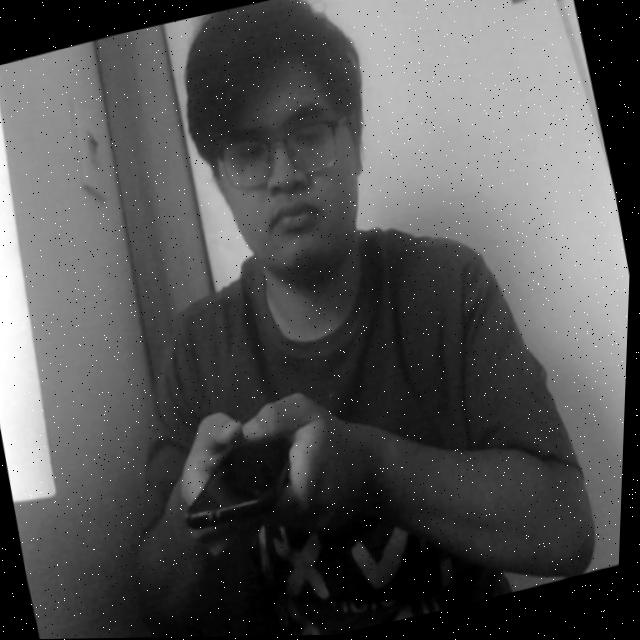phone: (152, 383, 341, 559)
